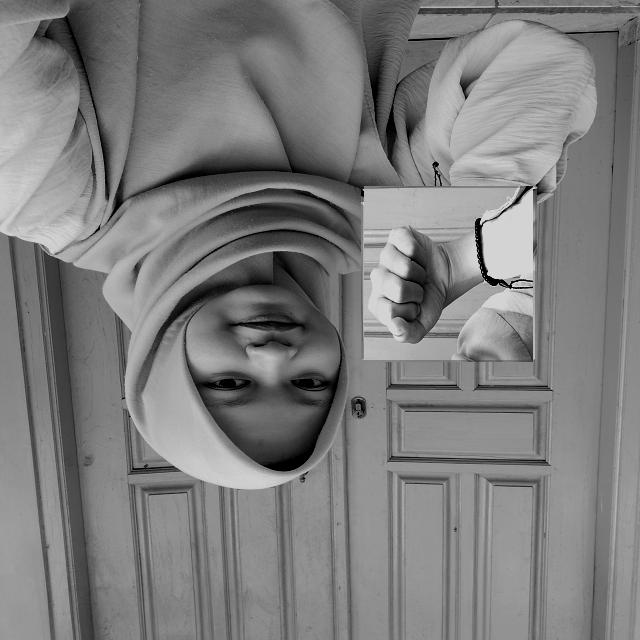baik: (363, 188, 535, 360)
